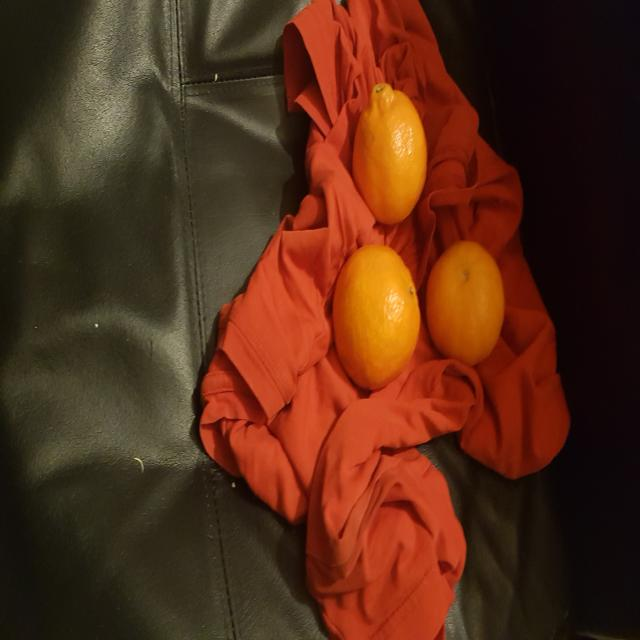Orange: (332, 245, 421, 393), (352, 83, 427, 226), (425, 241, 505, 367)
